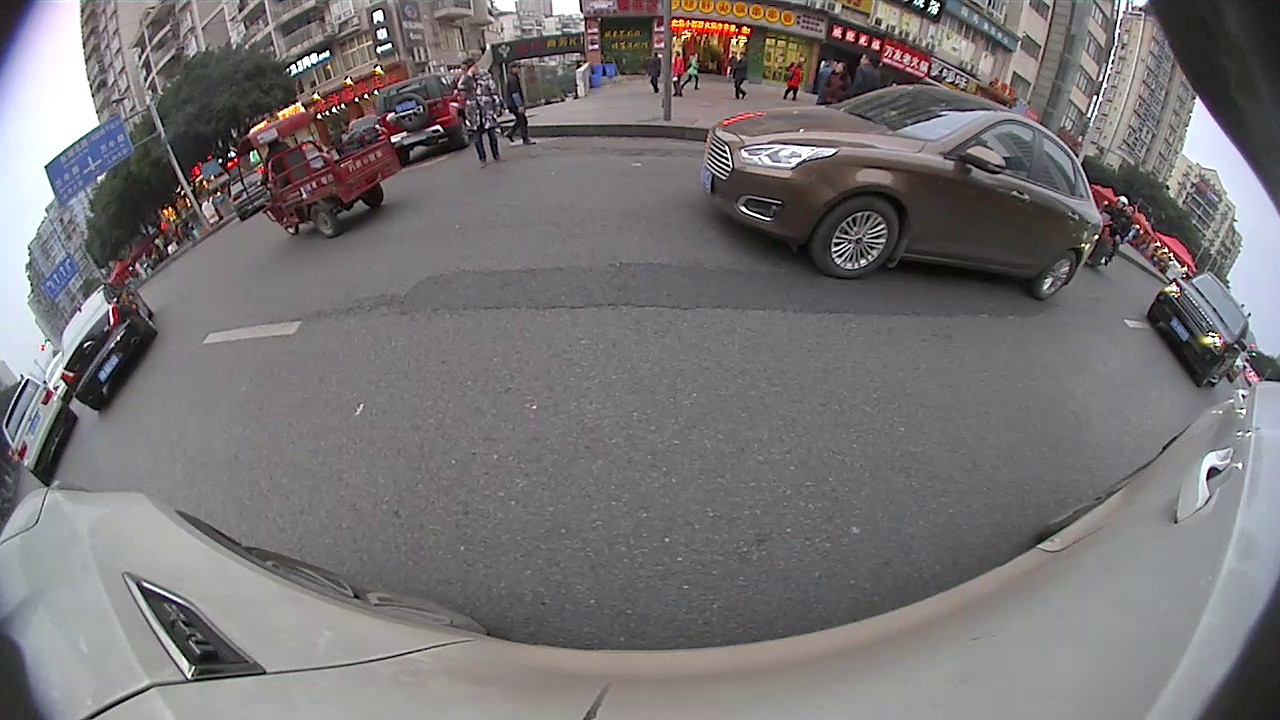car: (701, 83, 1102, 302), (58, 282, 157, 412), (1145, 273, 1251, 391), (376, 72, 470, 165), (3, 375, 78, 489)
front: (809, 193, 903, 281)
person: (456, 58, 502, 170), (502, 59, 539, 147)
rear: (1033, 248, 1079, 304), (307, 203, 341, 240)
rider: (234, 110, 403, 239)
